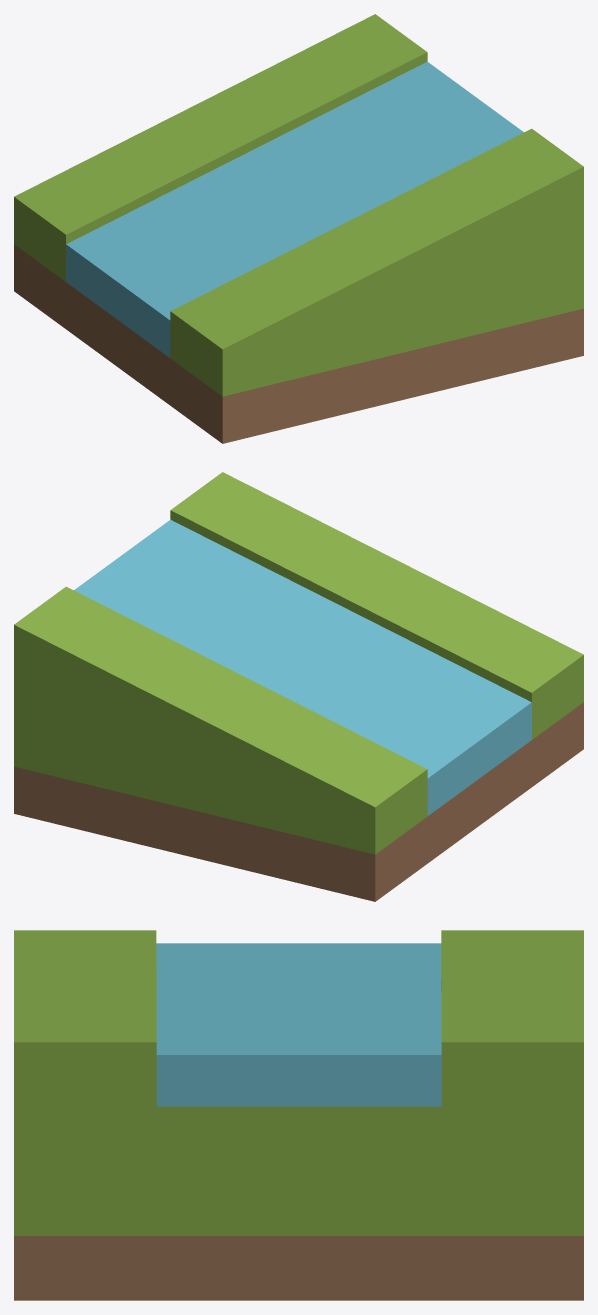
File: river-hill.obj
3 renders of one model, top to bottom at view 1: azimuth 30°, elevation 25°; view 2: azimuth 150°, elevation 25°; view 3: azimuth 270°, elevation 25°, orthographic. The views are drawn at different scales.
Visible parts, largest first — view 1: river-hill_Cube.563; view 2: river-hill_Cube.563; view 3: river-hill_Cube.563.
Boxes of the visible parts, x1,y1,x2,y2 form: river-hill_Cube.563: [14, 14, 583, 443]; river-hill_Cube.563: [14, 472, 583, 901]; river-hill_Cube.563: [14, 930, 583, 1300].
Bounding box in the file's own units: 8 × 4 × 8.
1 material, 1 textured.
